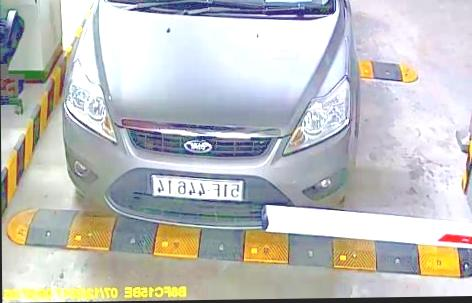License_Plate: (148, 173, 248, 205)
